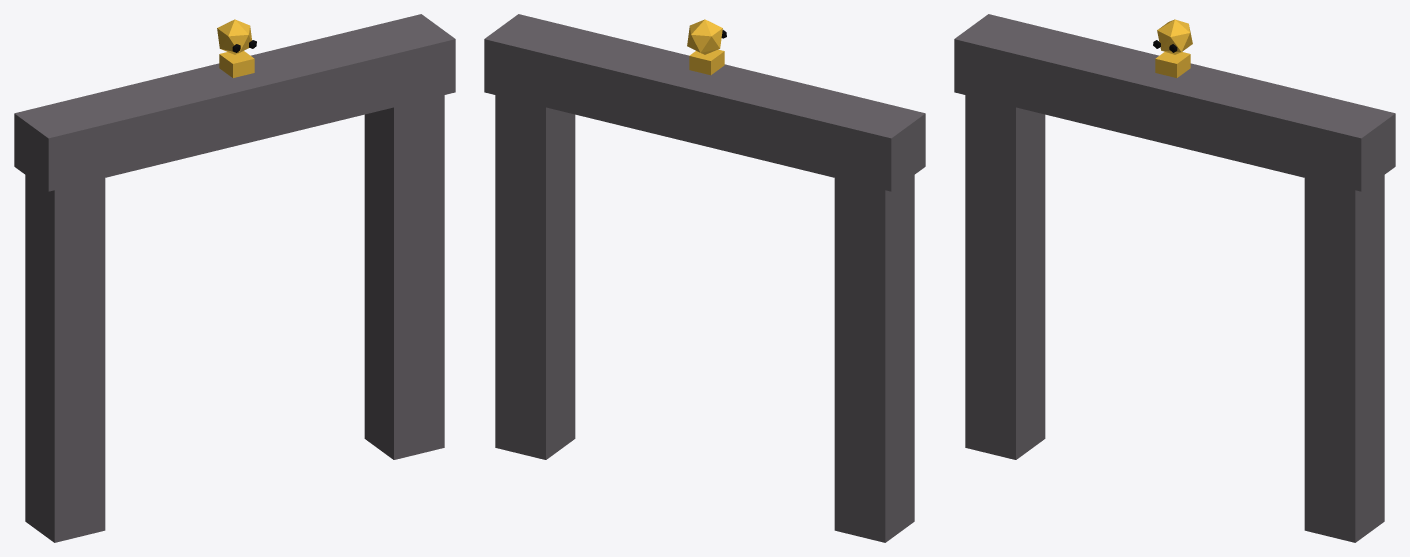
The model's file is Bld_OR_SkullArch_09.glb.
3 renders of one model, left to right at view 1: azimuth 30°, elevation 25°; view 2: azimuth 150°, elevation 25°; view 3: azimuth 330°, elevation 25°, orthographic.
Visible parts, largest first — view 1: Bld_OR_SkullArch_09; view 2: Bld_OR_SkullArch_09; view 3: Bld_OR_SkullArch_09.
Part boxes in pixels (bbox=[...]): Bld_OR_SkullArch_09: bbox=[14, 14, 455, 542]; Bld_OR_SkullArch_09: bbox=[484, 14, 925, 542]; Bld_OR_SkullArch_09: bbox=[954, 14, 1395, 542].
Size of the model in its own units: 4.8 by 5.24 by 0.7.
